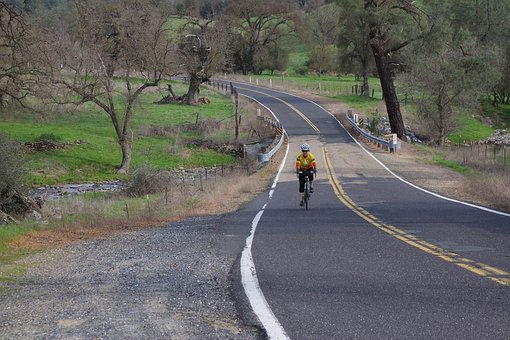bikerider: (293, 140, 320, 210)
